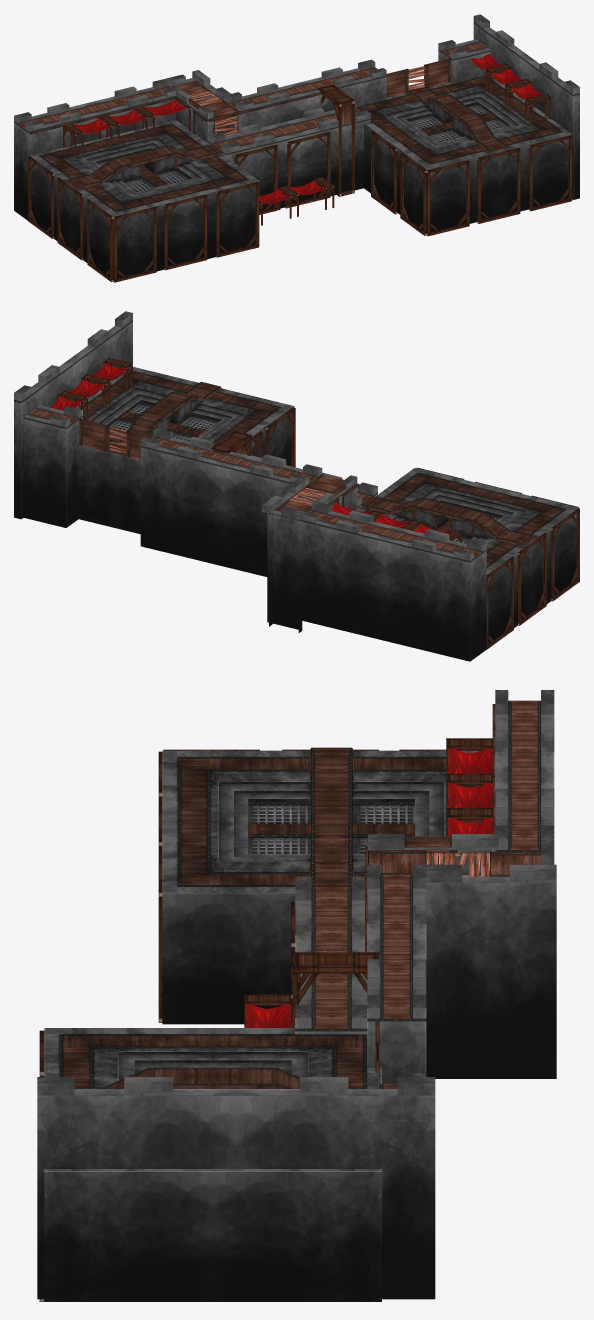
File: showcaseSideScrollerPlatformLevel.68e11570.glb
The picture shows the model from 3 angles, top to bottom: view 1: azimuth 30°, elevation 25°; view 2: azimuth 150°, elevation 25°; view 3: azimuth 270°, elevation 25°; orthographic projection. The views are drawn at different scales.
Visible parts, largest first — view 1: Plane003_Material #25_0, Plane008_Material #25_0, Box002, Box001, Box234, Box241, Box239_Material #70_0, Box177_Material #31_0, Box183_Material #70_0, Box231_Material #31_0, Box233_Material #31_0, Box232_Material #31_0 (+18 smaller); view 2: Box001, Box234, Plane008_Material #25_0, Plane003_Material #25_0, Box239_Material #70_0, Box241, Box243_Material #70_0, Box242_Material #70_0, Box176_Material #31_0, Box175_Material #31_0, Box251_Material #25_0, Box158_Material #31_0 (+5 smaller); view 3: Plane008_Material #25_0, Plane003_Material #25_0, Box241, Box242_Material #70_0, Box234, Box001, Box002, Box177_Material #31_0, Box183_Material #70_0, Box236_Material #25_0, Plane014, Plane013 (+5 smaller).
Part boxes in pixels (left/top/right/bottom): Plane003_Material #25_0: left=30, top=120, right=259, bottom=281; Plane008_Material #25_0: left=356, top=75, right=571, bottom=232; Box002: left=207, top=102, right=370, bottom=211; Box001: left=14, top=78, right=181, bottom=220; Box234: left=224, top=59, right=386, bottom=134; Box241: left=473, top=14, right=579, bottom=199; Box239_Material #70_0: left=438, top=39, right=490, bottom=83; Box177_Material #31_0: left=317, top=84, right=354, bottom=196; Box183_Material #70_0: left=176, top=89, right=213, bottom=142; Box231_Material #31_0: left=426, top=160, right=469, bottom=236; Box233_Material #31_0: left=529, top=135, right=572, bottom=211; Box232_Material #31_0: left=477, top=148, right=520, bottom=223; Box001: left=298, top=501, right=486, bottom=661; Box234: left=140, top=428, right=322, bottom=576; Plane008_Material #25_0: left=76, top=367, right=293, bottom=534; Plane003_Material #25_0: left=356, top=468, right=578, bottom=644; Box239_Material #70_0: left=24, top=405, right=82, bottom=527; Box241: left=14, top=311, right=132, bottom=519; Box243_Material #70_0: left=267, top=506, right=302, bottom=632; Box242_Material #70_0: left=261, top=478, right=305, bottom=626; Box176_Material #31_0: left=551, top=508, right=579, bottom=601; Box175_Material #31_0: left=518, top=532, right=546, bottom=625; Box251_Material #25_0: left=79, top=418, right=109, bottom=451; Box158_Material #31_0: left=486, top=556, right=513, bottom=649; Plane008_Material #25_0: left=44, top=1028, right=381, bottom=1301; Plane003_Material #25_0: left=162, top=747, right=480, bottom=1024; Box241: left=37, top=1077, right=435, bottom=1299; Box242_Material #70_0: left=426, top=864, right=556, bottom=1078; Box234: left=367, top=864, right=426, bottom=1083; Box001: left=495, top=690, right=554, bottom=852; Box002: left=295, top=876, right=367, bottom=1034; Box177_Material #31_0: left=292, top=952, right=379, bottom=1027; Box183_Material #70_0: left=368, top=834, right=498, bottom=875; Box236_Material #25_0: left=368, top=850, right=425, bottom=874; Plane014: left=447, top=749, right=492, bottom=773; Plane013: left=447, top=783, right=492, bottom=807.
Size of the model in its own units: 1428 by 386 by 735.
Materials: 9 (9 with a texture image).
